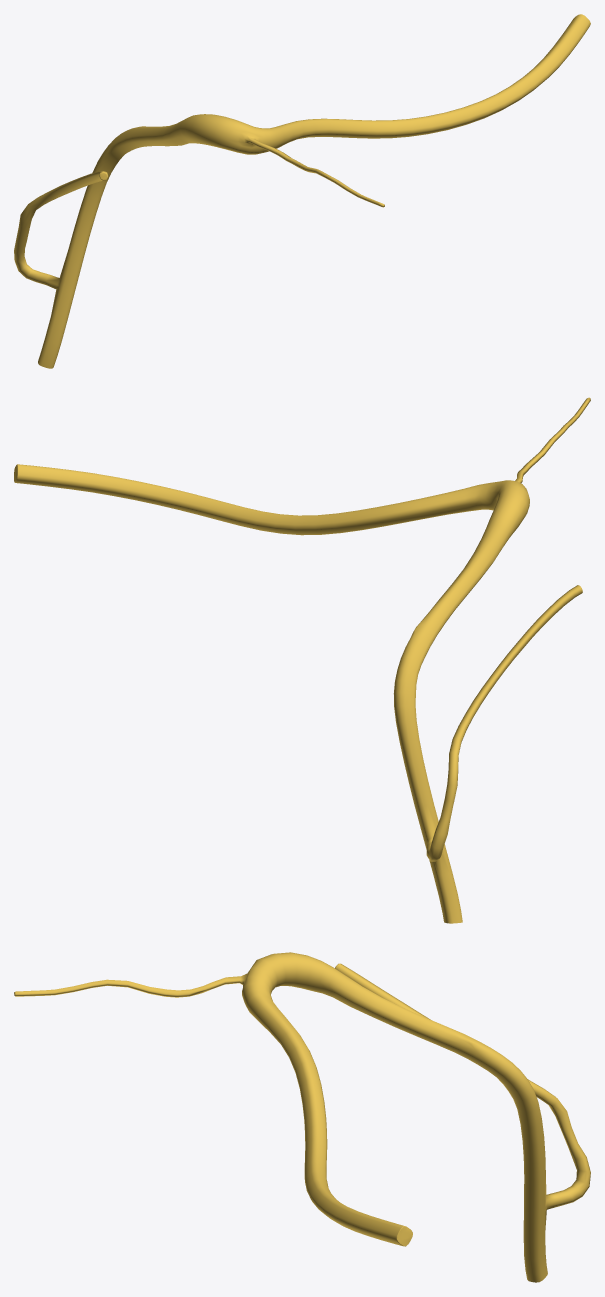
The model's file is Facial_nerve_right.glb.
The picture shows the model from 3 angles, top to bottom: view 1: azimuth 30°, elevation 25°; view 2: azimuth 150°, elevation 25°; view 3: azimuth 270°, elevation 25°; orthographic projection. The views are drawn at different scales.
Visible parts, largest first — view 1: Facial_nerve.r_Anatomy_of_the_Inner_Ear_Sketchfab_upload_01.; view 2: Facial_nerve.r_Anatomy_of_the_Inner_Ear_Sketchfab_upload_01.; view 3: Facial_nerve.r_Anatomy_of_the_Inner_Ear_Sketchfab_upload_01..
Part boxes in pixels (x1,y1,x2,y2): Facial_nerve.r_Anatomy_of_the_Inner_Ear_Sketchfab_upload_01.: (14, 14, 590, 368); Facial_nerve.r_Anatomy_of_the_Inner_Ear_Sketchfab_upload_01.: (14, 397, 590, 923); Facial_nerve.r_Anatomy_of_the_Inner_Ear_Sketchfab_upload_01.: (14, 952, 590, 1282).
Size of the model in its own units: 0.0294 by 0.0173 by 0.0254.
